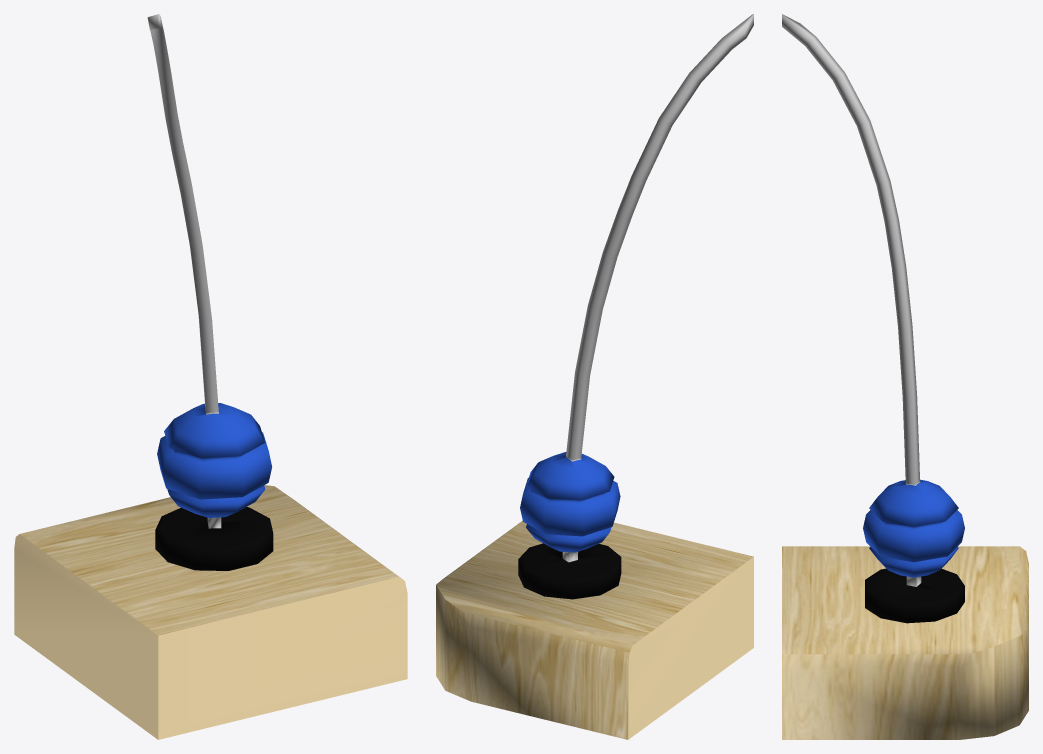
File: 2_Motorikschleife_sm.fbx
3 renders of one model, left to right at view 1: azimuth 30°, elevation 25°; view 2: azimuth 150°, elevation 25°; view 3: azimuth 270°, elevation 25°, orthographic. The views are drawn at different scales.
Parts seen in each view (by area): view 1: Cube.002; view 2: Cube.002; view 3: Cube.002.
Boxes of the visible parts, x1,y1,x2,y2 form: Cube.002: (14,14,407,739); Cube.002: (436,14,753,739); Cube.002: (782,14,1028,739).
Bounding box in the file's own units: 500 × 1390 × 500.
